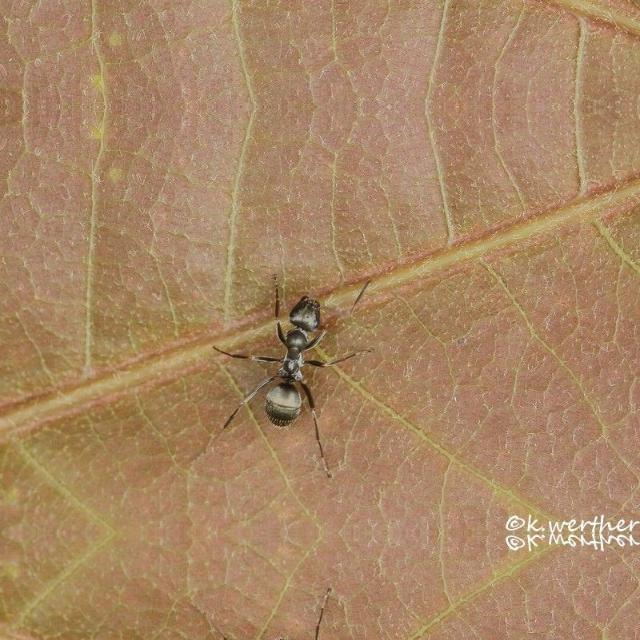Formica: (237, 279, 349, 433)
